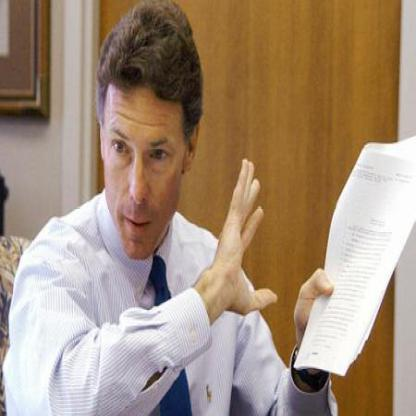face: (105, 45, 188, 262)
